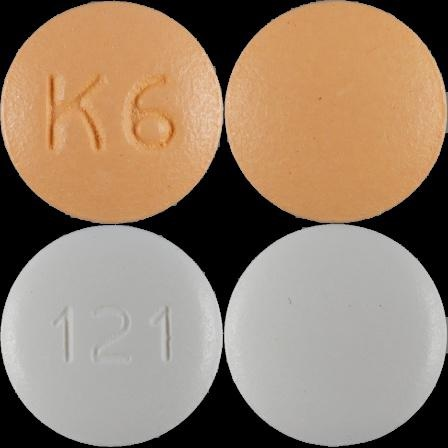10544-200: (0, 0, 224, 224)
